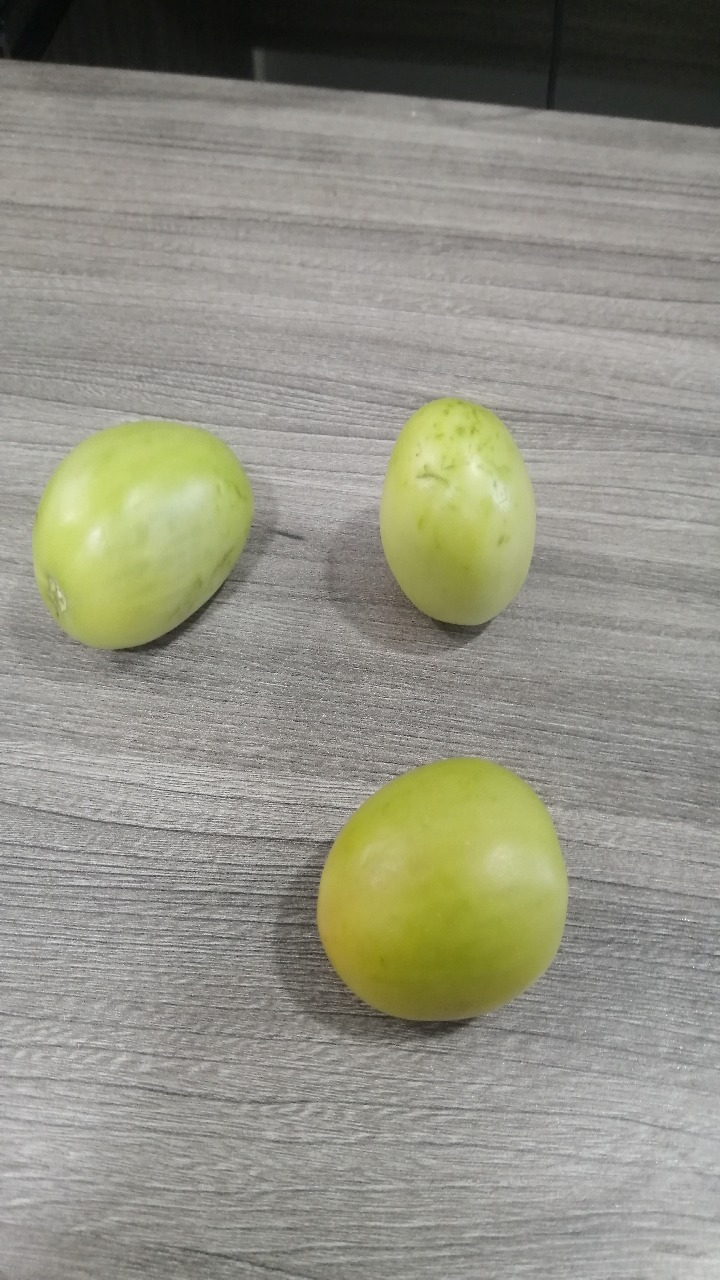tomateVerde: (288, 734, 591, 1048), (26, 399, 286, 680), (361, 379, 549, 635)
